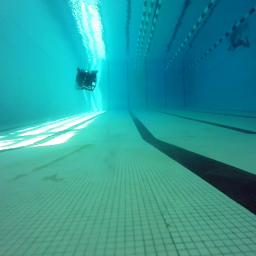front: (76, 68, 98, 92)
